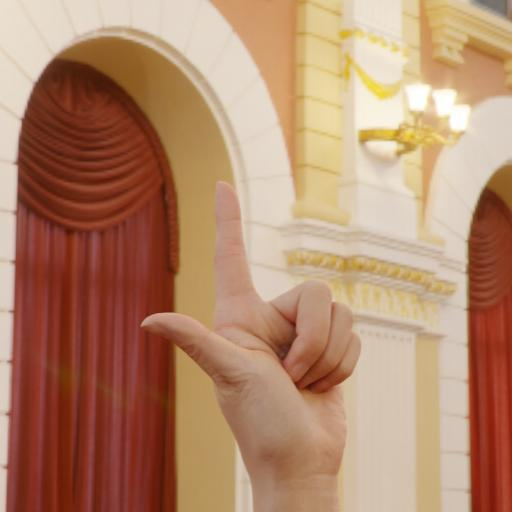L: (130, 170, 370, 511)
